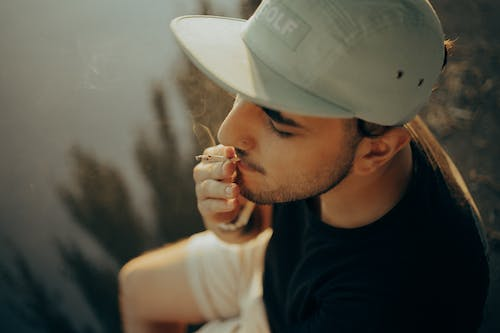cigarette: (194, 154, 242, 162)
